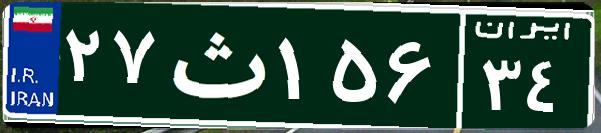1: (273, 28, 330, 110)
2: (57, 26, 110, 107)
3: (475, 38, 525, 113)
4: (525, 38, 570, 115)
5: (330, 28, 385, 110)
6: (385, 28, 445, 110)
7: (110, 28, 158, 105)
ث: (158, 15, 273, 115)
